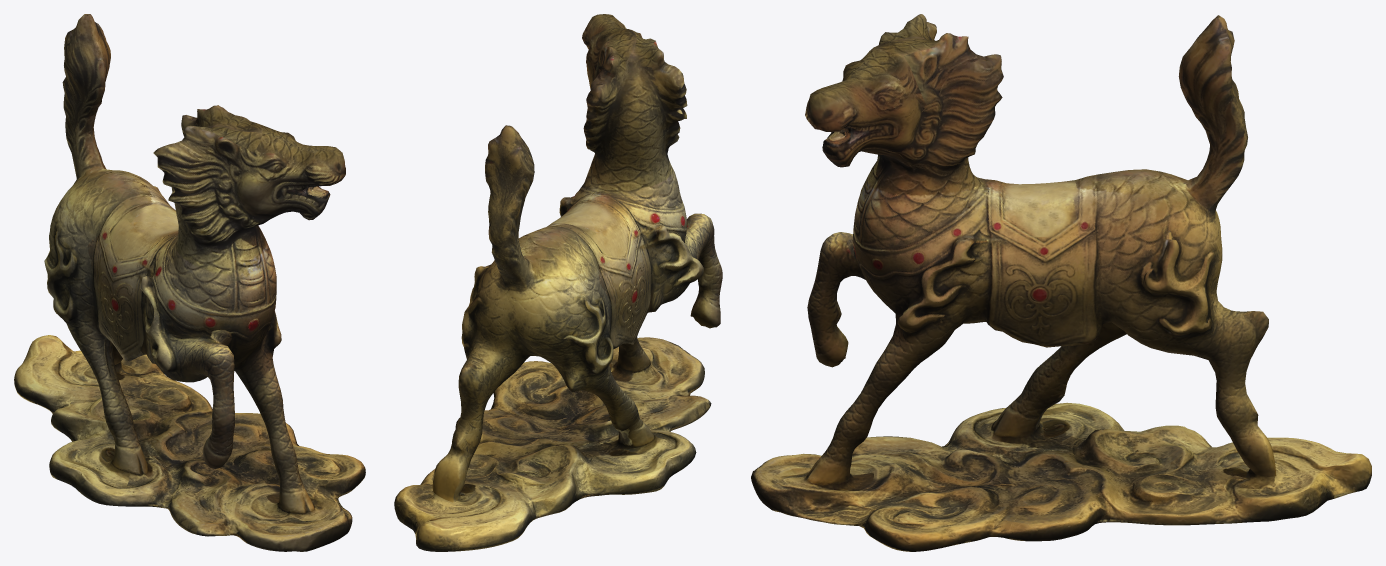
The picture shows the model from 3 angles, left to right: view 1: azimuth 30°, elevation 25°; view 2: azimuth 150°, elevation 25°; view 3: azimuth 270°, elevation 25°; orthographic projection. The views are drawn at different scales.
Visible parts, largest first — view 1: Chinese Qilin original.002_Remesh_0; view 2: Chinese Qilin original.002_Remesh_0; view 3: Chinese Qilin original.002_Remesh_0.
Boxes of the visible parts, left/top/right/bottom form: Chinese Qilin original.002_Remesh_0: left=14, top=14, right=365, bottom=551; Chinese Qilin original.002_Remesh_0: left=394, top=14, right=722, bottom=551; Chinese Qilin original.002_Remesh_0: left=751, top=14, right=1371, bottom=551.
Bounding box in the file's own units: 2.97 × 4.69 × 5.79.
Materials: 1 (1 with a texture image).
